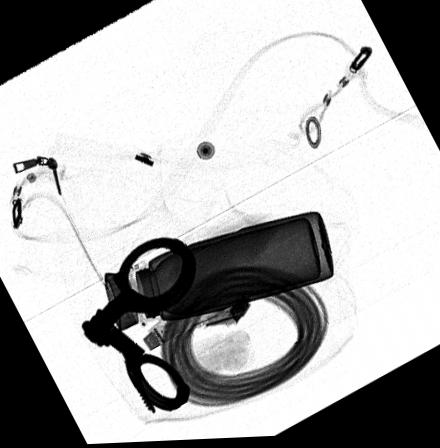HandCuffs: (81, 239, 197, 416)
